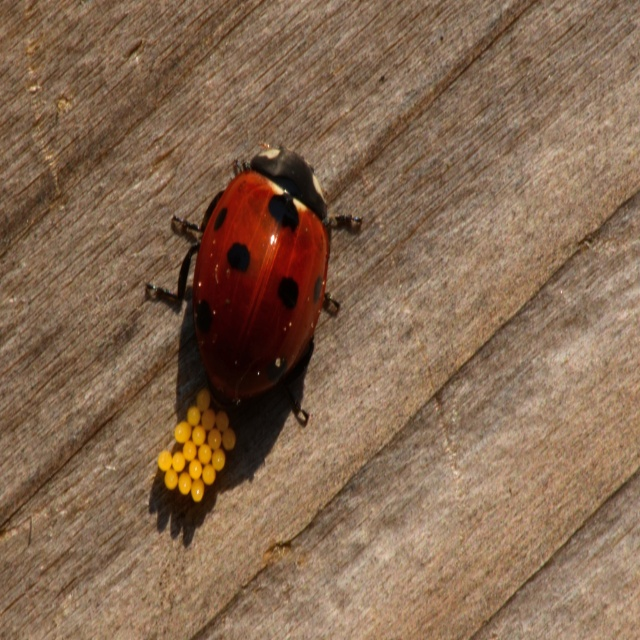Ladybug: (146, 140, 359, 421)
